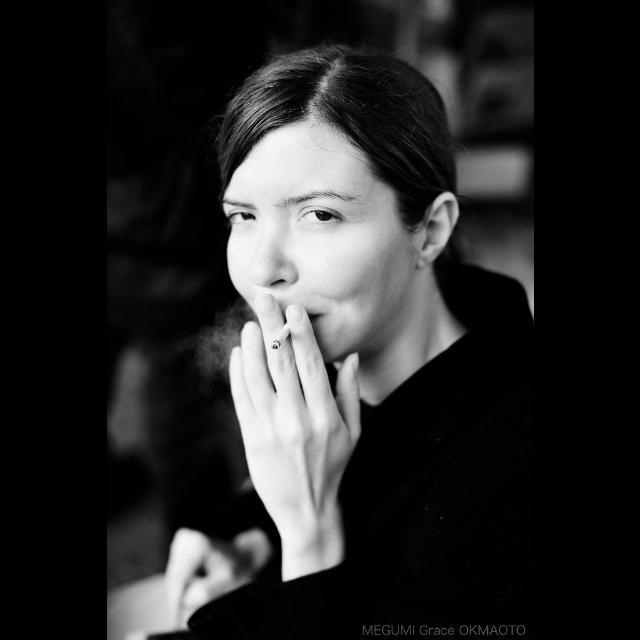rokok: (261, 320, 301, 354)
